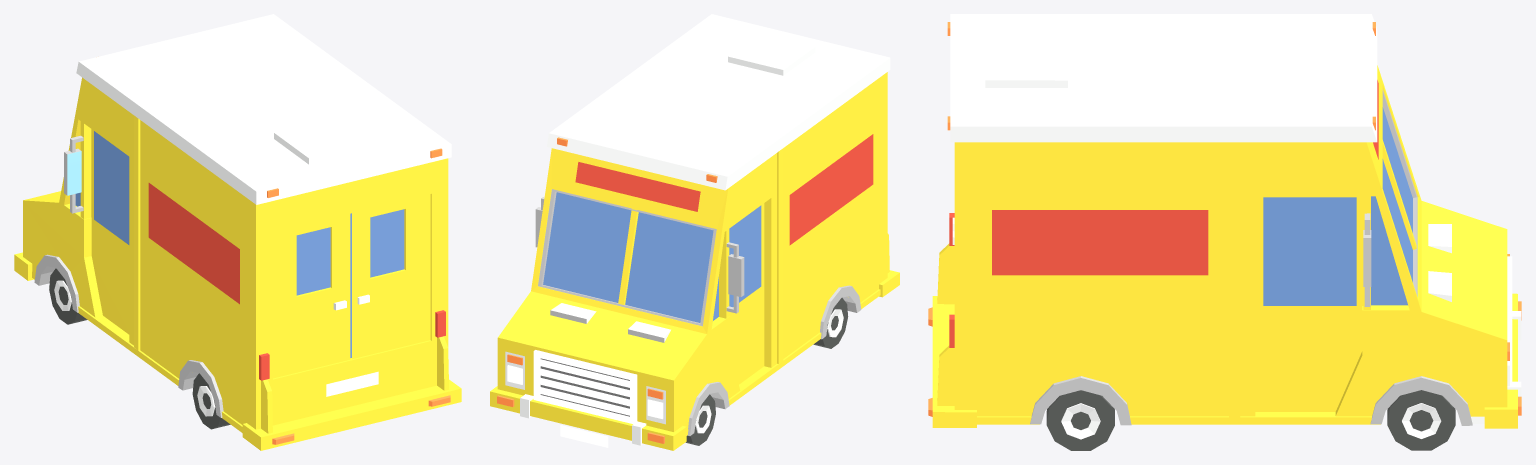
File: transport_bus.003.glb
3 views of the same model, side by side, from view 1: azimuth 30°, elevation 25°; view 2: azimuth 150°, elevation 25°; view 3: azimuth 270°, elevation 25° (orthographic). The views are drawn at different scales.
Parts seen in each view (by area): view 1: transport_bus.003(Clone); view 2: transport_bus.003(Clone); view 3: transport_bus.003(Clone).
Boxes of the visible parts, left/top/right/bottom form: transport_bus.003(Clone): left=14, top=14, right=461, bottom=450; transport_bus.003(Clone): left=490, top=14, right=899, bottom=450; transport_bus.003(Clone): left=928, top=14, right=1521, bottom=450.
Bounding box in the file's own units: 2.02 × 2.43 × 3.9.
Materials: 1 (1 with a texture image).
